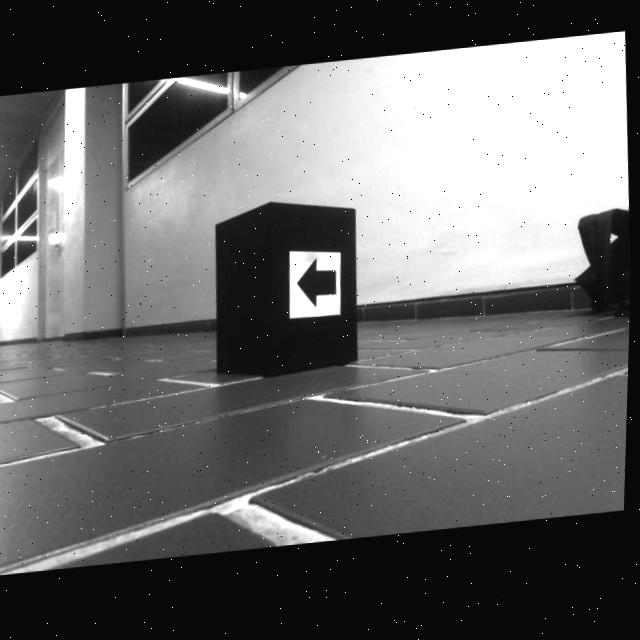LEFT: (298, 261, 338, 312)
